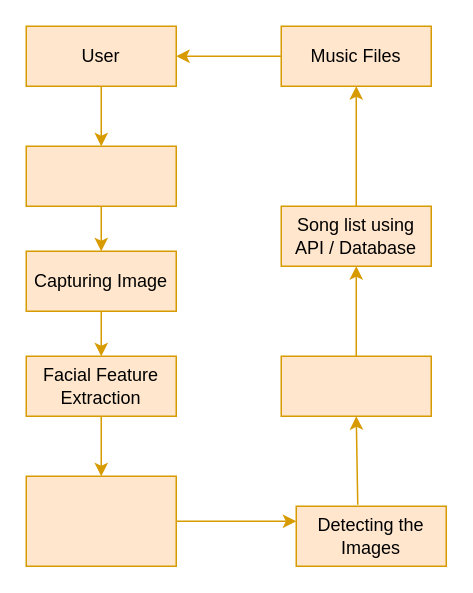
The diagram is 473 pixels wide and 593 high, and some of its shapes have lost their labels. The shapes that lost their labels are listed below. From the top down, each one's box as (x1, y1, x2, y2) in pixels, then its label:
(25, 145, 176, 206): Image
(280, 355, 431, 416): Generate Playlist Accordingly
(25, 475, 176, 566): Processing with Different algorithms
